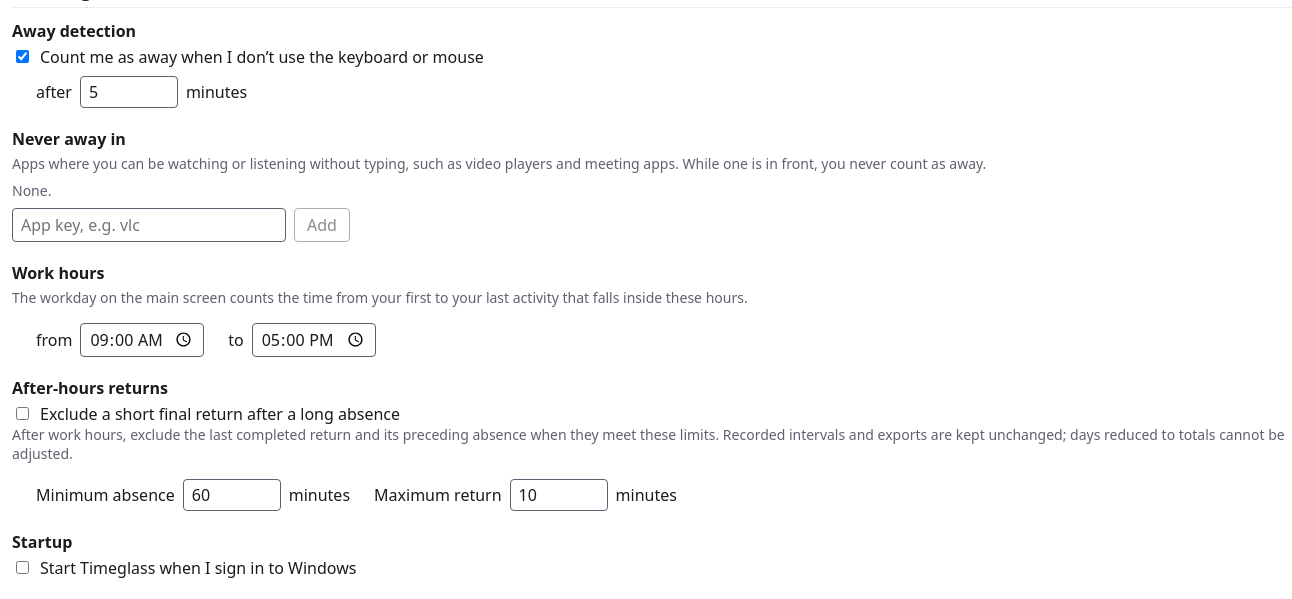
SettingsView › checks the form before saving
Replace the text in the number field labelled "after minutes" with "500" at (129, 92), box [80,76,178,108]
(page scrolled)
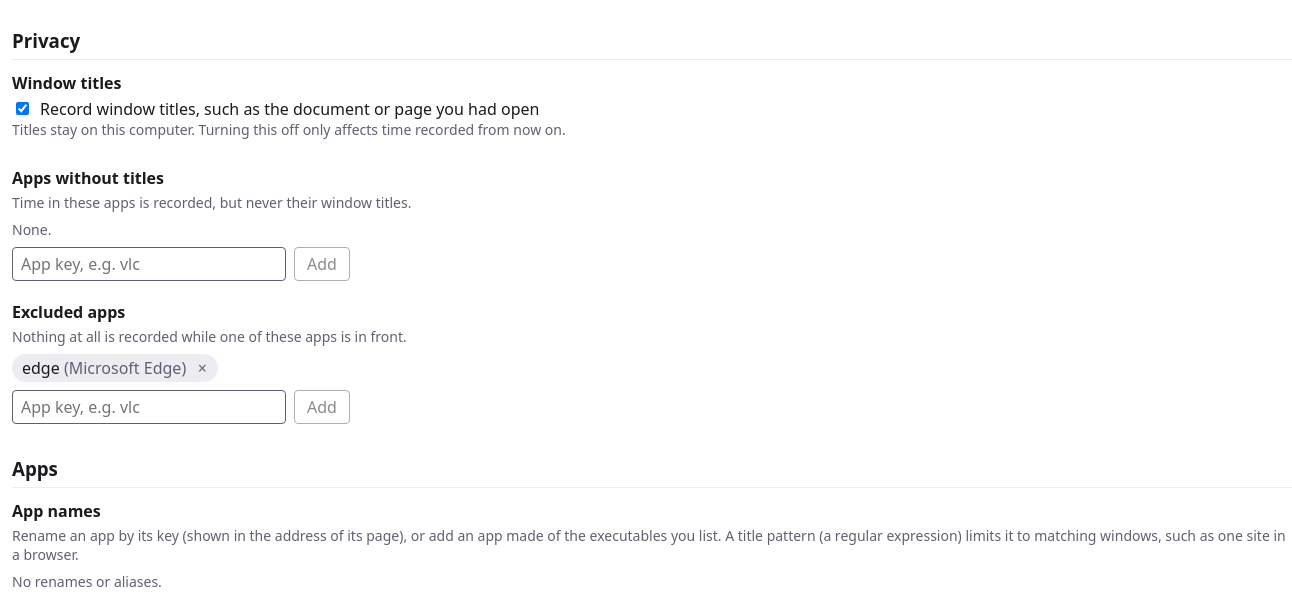
Type "edge" into the field named "Add to apps without titles" at (149, 264), box [12,247,286,281]
Then press Enter
(page scrolled)
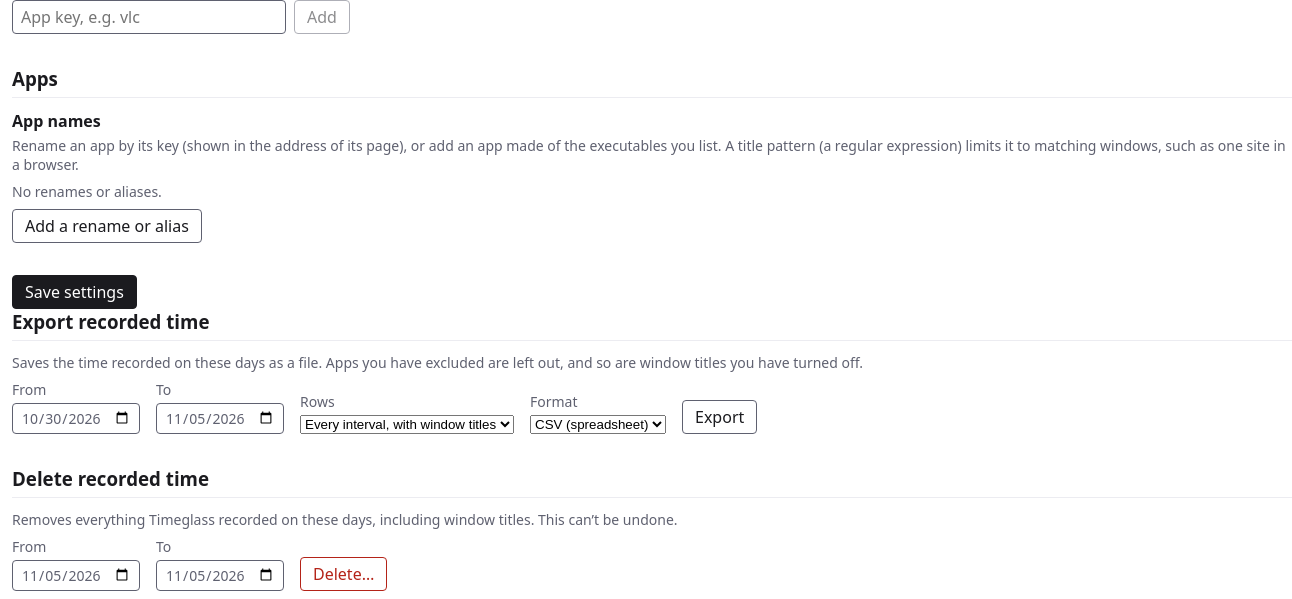
Click the button "Save settings" at (74, 292), box [12,275,137,309]
(page scrolled)
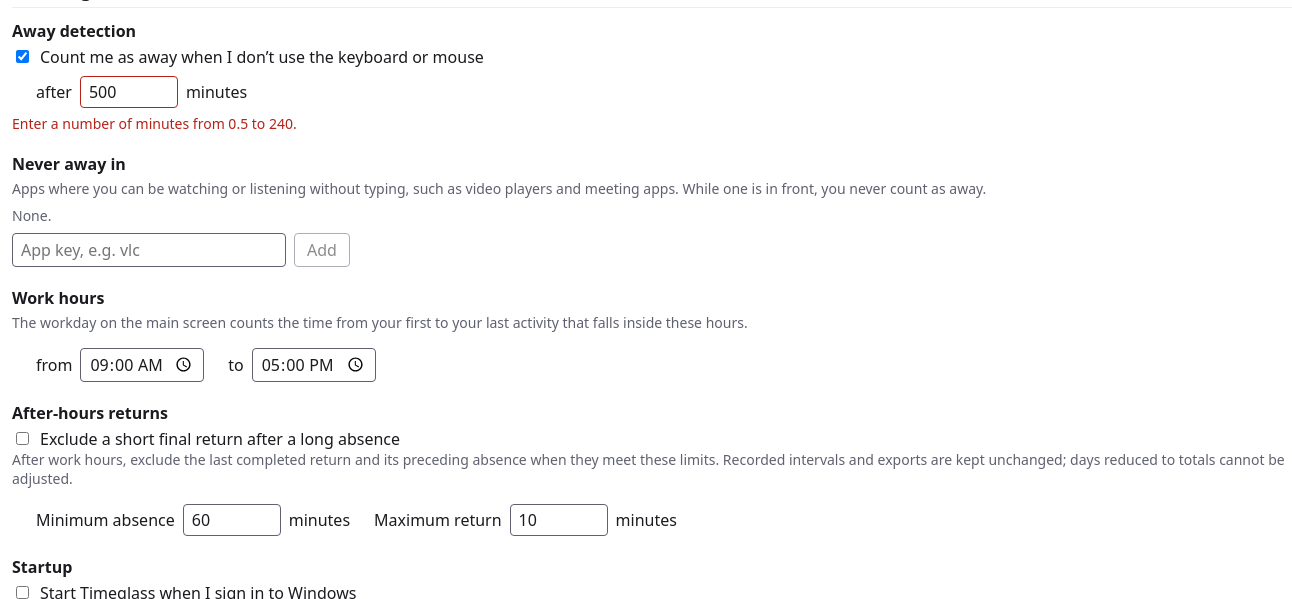
expect the list item "Enter a number of minutes from 0.5 to 240." is shown: met, box [12,114,297,133]
